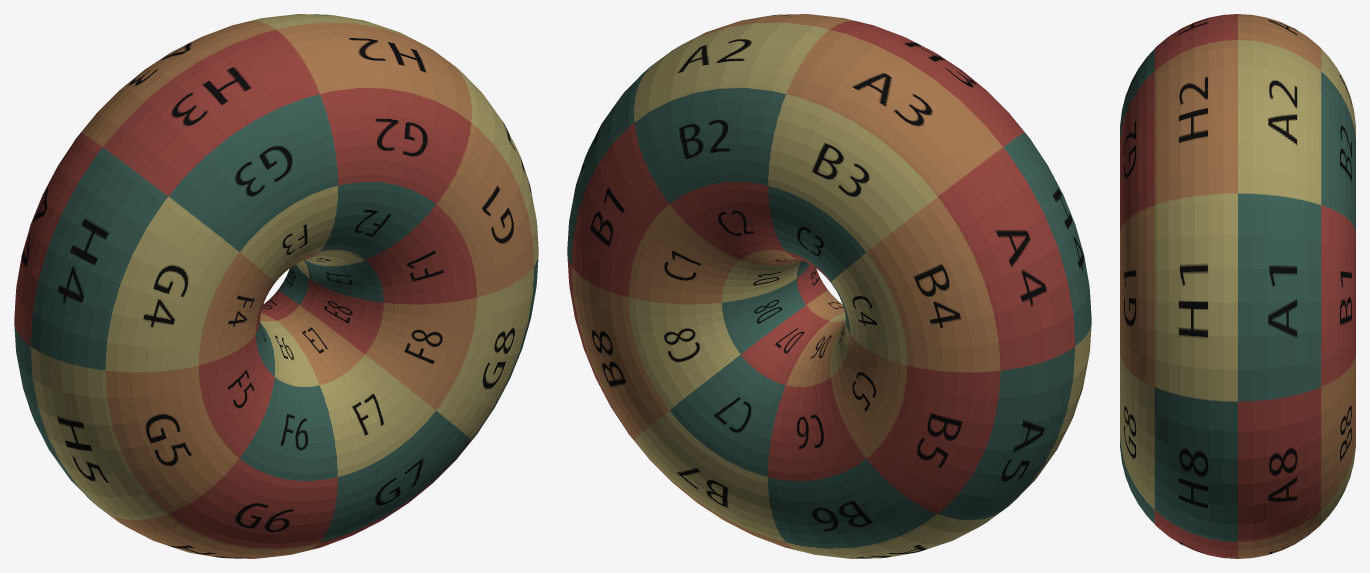
The model's file is texture_torus_R2_r25.glb.
3 views of the same model, side by side, from view 1: azimuth 30°, elevation 25°; view 2: azimuth 150°, elevation 25°; view 3: azimuth 270°, elevation 25° (orthographic). The views are drawn at different scales.
Visible parts, largest first — view 1: world; view 2: world; view 3: world.
Boxes of the visible parts, bbox=[...] form: world: bbox=[14, 14, 538, 558]; world: bbox=[567, 14, 1091, 558]; world: bbox=[1120, 14, 1355, 558].
Bounding box in the file's own units: 20 × 19.96 × 8.65.
1 material, 1 textured.
